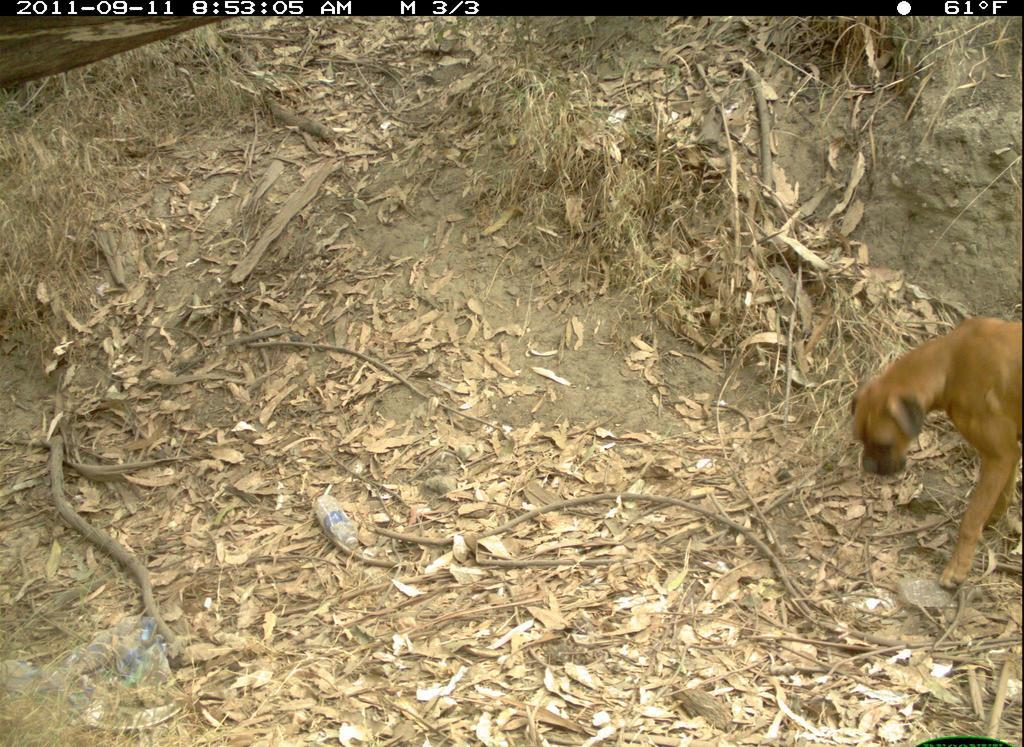dog: (845, 314, 1024, 596)
